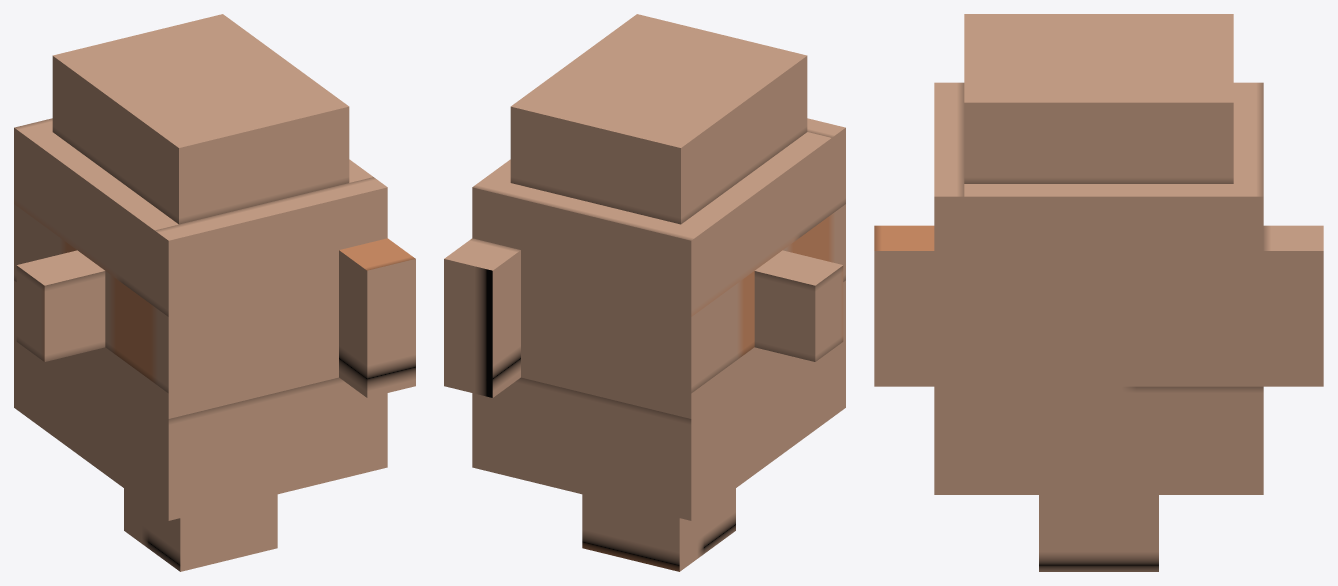
File: head_human.obj
3 views of the same model, side by side, from view 1: azimuth 30°, elevation 25°; view 2: azimuth 150°, elevation 25°; view 3: azimuth 270°, elevation 25° (orthographic). The views are drawn at different scales.
Visible parts, largest first — view 1: head_human_box; view 2: head_human_box; view 3: head_human_box.
Part boxes in pixels (x1=…): head_human_box: x1=14, y1=14, x2=415, y2=571; head_human_box: x1=444, y1=14, x2=845, y2=571; head_human_box: x1=874, y1=14, x2=1323, y2=571.
Size of the model in its own units: 23 by 36 by 30.
